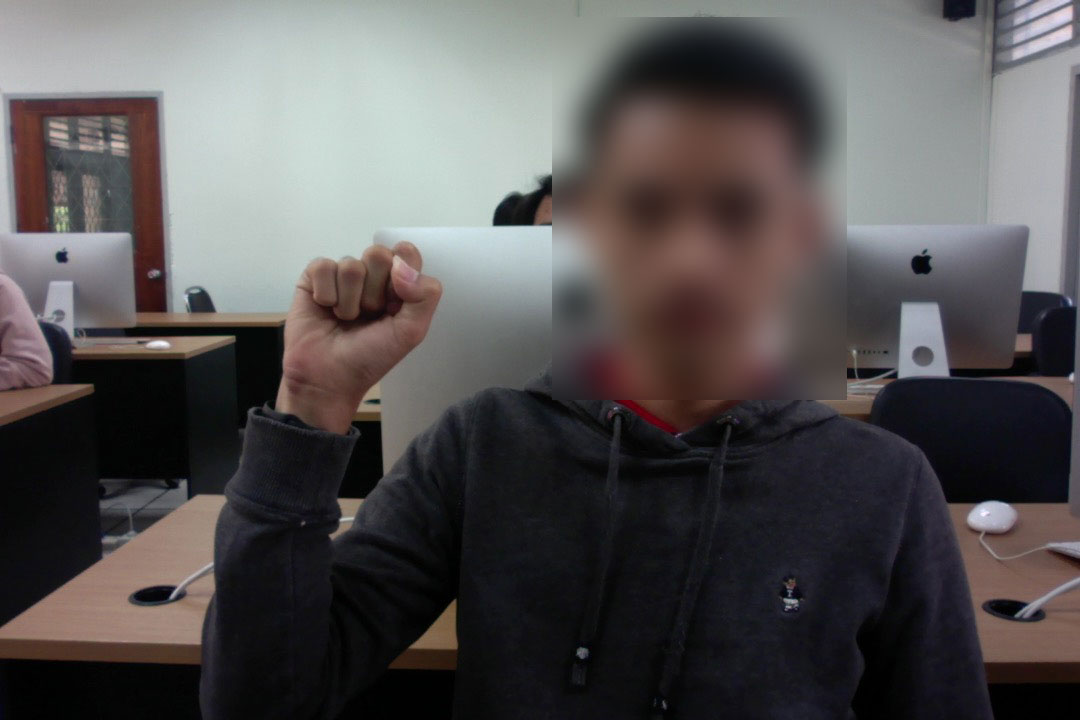sor: (272, 236, 446, 398)
